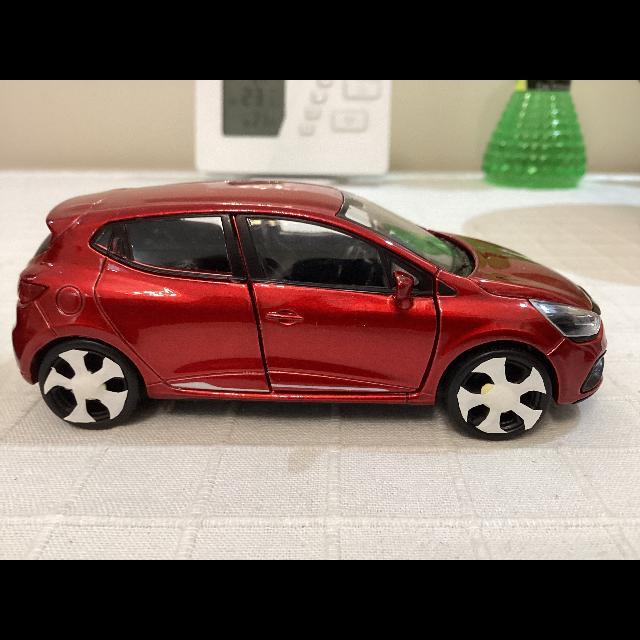Yanlis_Jant: (457, 356, 548, 436), (41, 348, 129, 424)
